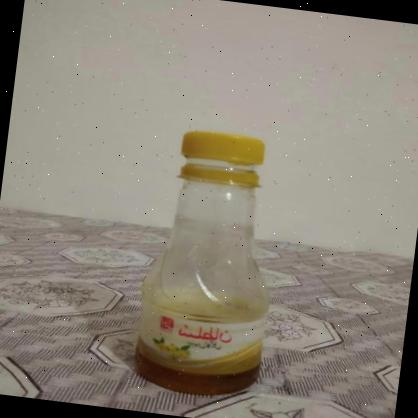bottle: (105, 118, 300, 407)
cap: (173, 126, 272, 190)
label: (130, 291, 272, 393)
